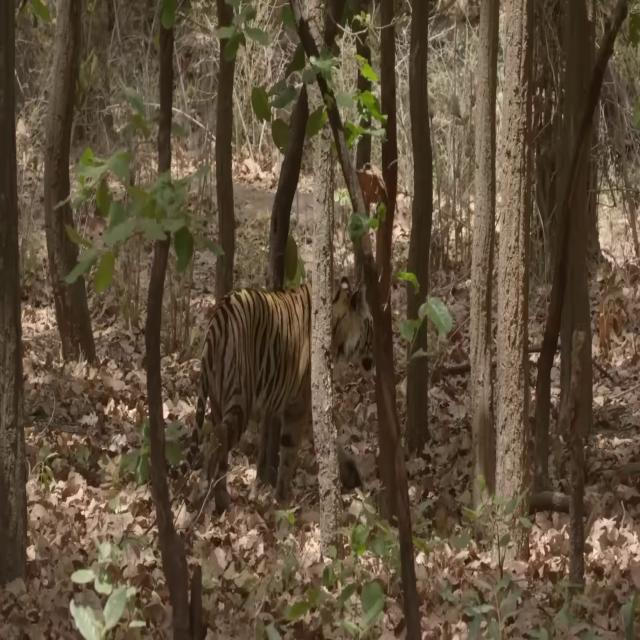tiger: (168, 274, 376, 511)
